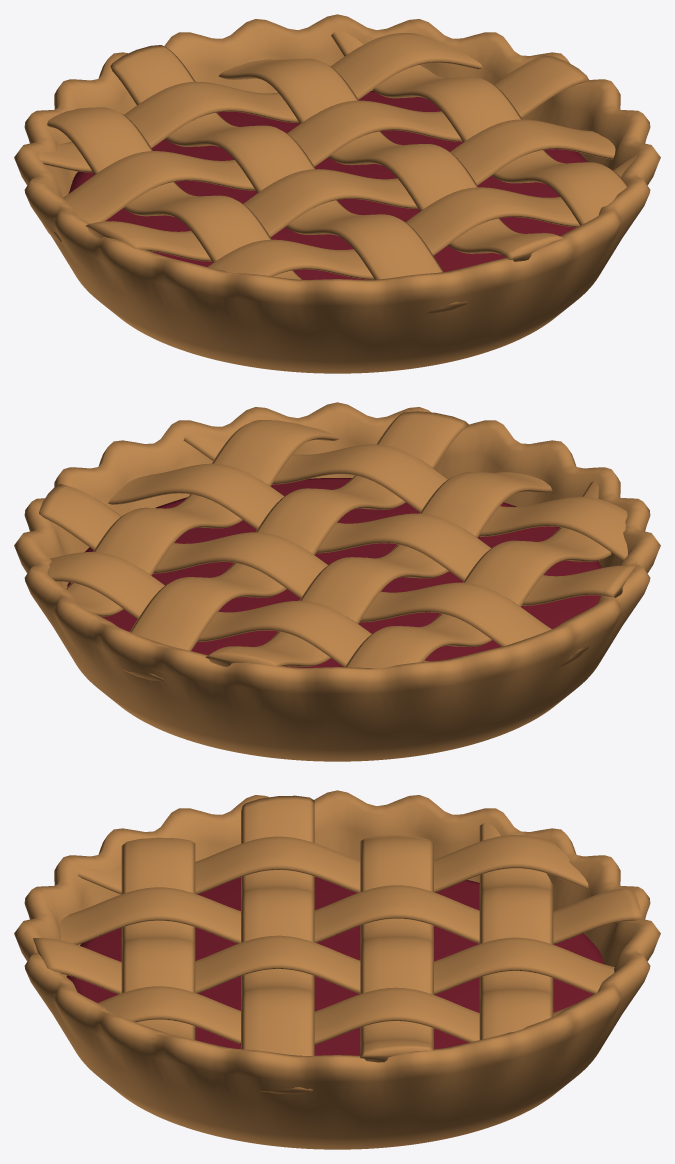
The picture shows the model from 3 angles, top to bottom: view 1: azimuth 30°, elevation 25°; view 2: azimuth 150°, elevation 25°; view 3: azimuth 270°, elevation 25°; orthographic projection.
Visible parts, largest first — view 1: Complete crimped pastry shell, Woven pastry ribbon 0 2, Woven pastry ribbon 1 1, Woven pastry ribbon 0 1, Woven pastry ribbon 1 2, Filling inside pastry shell, Woven pastry ribbon 0 3, Woven pastry ribbon 1 3, Woven pastry ribbon 0 0, Woven pastry ribbon 1 0; view 2: Complete crimped pastry shell, Woven pastry ribbon 1 2, Woven pastry ribbon 0 2, Woven pastry ribbon 0 1, Filling inside pastry shell, Woven pastry ribbon 1 1, Woven pastry ribbon 0 0, Woven pastry ribbon 1 3, Woven pastry ribbon 1 0, Woven pastry ribbon 0 3; view 3: Complete crimped pastry shell, Woven pastry ribbon 1 1, Woven pastry ribbon 0 1, Woven pastry ribbon 1 2, Filling inside pastry shell, Woven pastry ribbon 0 2, Woven pastry ribbon 1 0, Woven pastry ribbon 1 3, Woven pastry ribbon 0 3, Woven pastry ribbon 0 0.
Part boxes in pixels (box(x1,y1,x2,y2)): Complete crimped pastry shell: box(14, 14, 660, 373); Woven pastry ribbon 0 2: box(43, 55, 589, 241); Woven pastry ribbon 1 1: box(110, 45, 468, 314); Woven pastry ribbon 0 1: box(85, 119, 615, 261); Woven pastry ribbon 1 2: box(218, 58, 563, 261); Filling inside pastry shell: box(68, 91, 587, 279); Woven pastry ribbon 0 3: box(38, 33, 483, 172); Woven pastry ribbon 1 3: box(331, 30, 627, 225); Woven pastry ribbon 0 0: box(207, 155, 641, 279); Woven pastry ribbon 1 0: box(47, 107, 302, 289); Complete crimped pastry shell: box(14, 402, 660, 761); Woven pastry ribbon 1 2: box(122, 411, 469, 681); Woven pastry ribbon 0 2: box(39, 484, 588, 669); Woven pastry ribbon 0 1: box(108, 463, 635, 605); Filling inside pastry shell: box(67, 478, 601, 667); Woven pastry ribbon 1 1: box(205, 471, 552, 667); Woven pastry ribbon 0 0: box(183, 434, 627, 560); Woven pastry ribbon 1 3: box(56, 420, 339, 616); Woven pastry ribbon 1 0: box(345, 481, 611, 668); Woven pastry ribbon 0 3: box(47, 552, 462, 668); Complete crimped pastry shell: box(14, 790, 660, 1149); Woven pastry ribbon 1 1: box(59, 885, 641, 944); Woven pastry ribbon 0 1: box(241, 795, 314, 1094); Woven pastry ribbon 1 2: box(33, 935, 614, 994); Filling inside pastry shell: box(66, 876, 604, 1055); Woven pastry ribbon 0 2: box(360, 835, 433, 1062); Woven pastry ribbon 1 0: box(77, 835, 588, 894); Woven pastry ribbon 1 3: box(98, 986, 580, 1044); Woven pastry ribbon 0 3: box(479, 822, 553, 1039); Woven pastry ribbon 0 0: box(121, 837, 195, 1039).
Bounding box in the file's own units: 0.1844 × 0.0413 × 0.1844.
